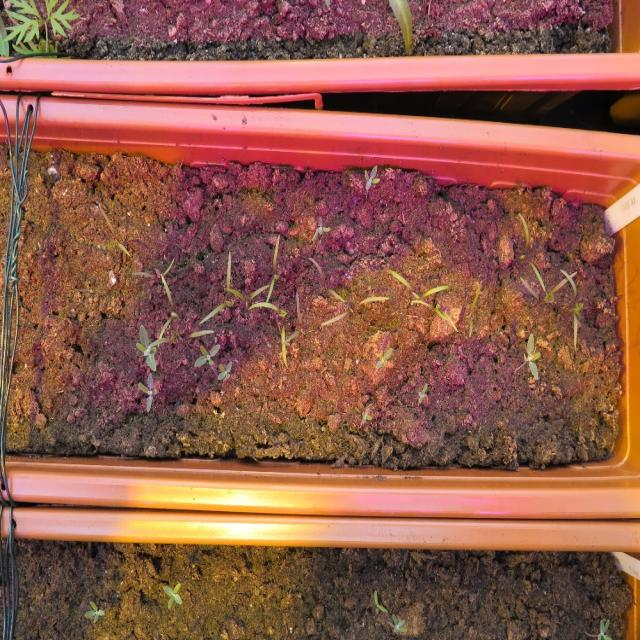weed: (522, 331, 541, 380), (136, 371, 156, 412), (192, 342, 220, 367), (162, 581, 182, 609), (310, 215, 330, 242), (84, 598, 105, 623), (363, 162, 379, 190), (374, 345, 392, 369), (216, 359, 232, 381), (373, 588, 387, 613), (390, 612, 407, 631), (417, 381, 428, 403), (360, 404, 372, 424)
